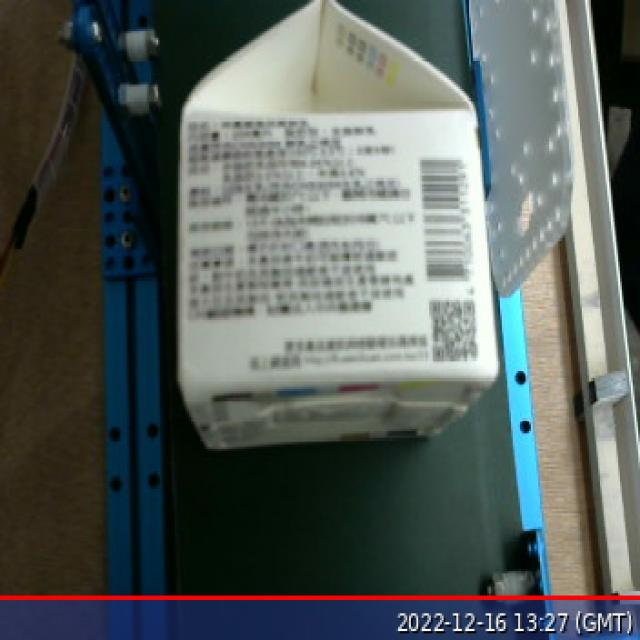non_white_jug: (171, 0, 511, 464)
